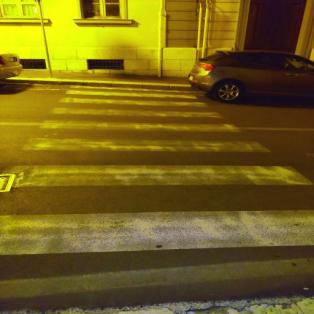Paso de Cebra: (16, 118, 281, 158)
